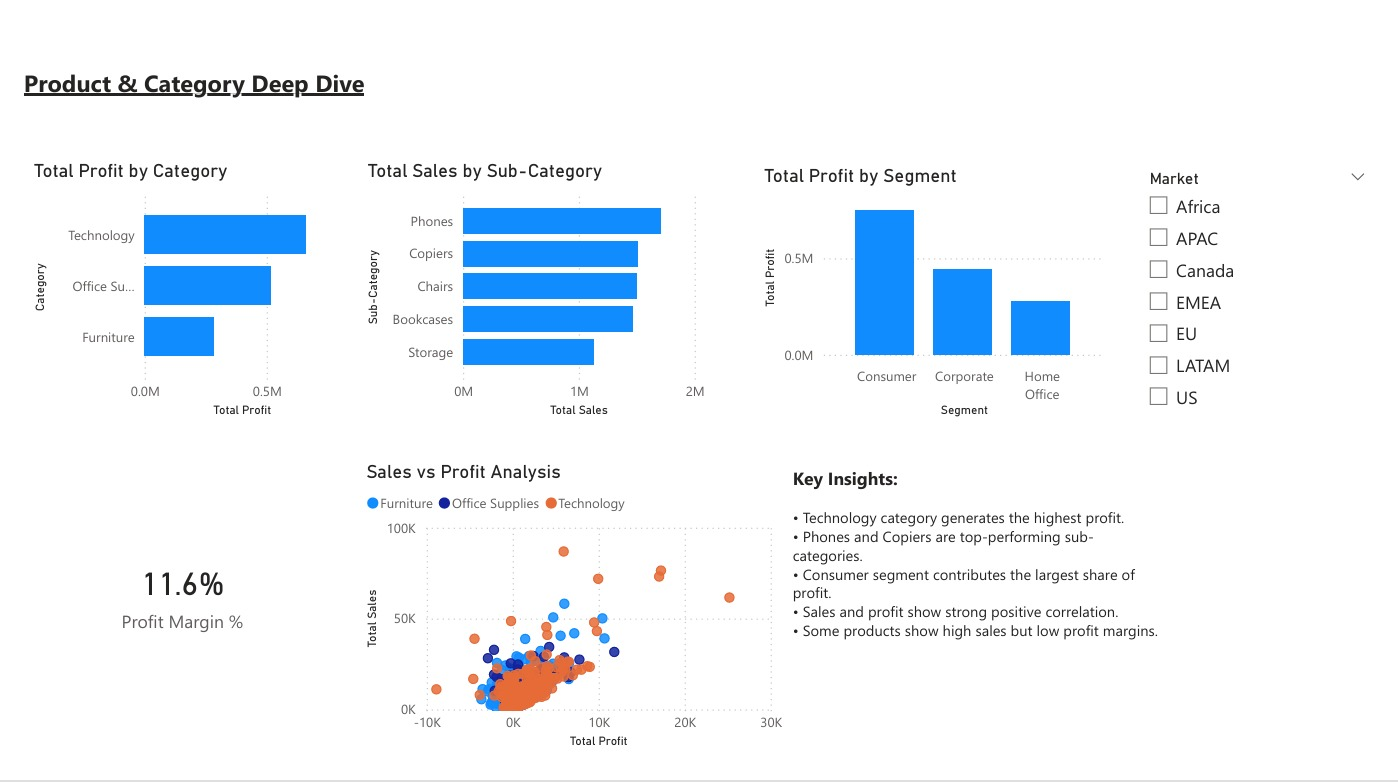

This screenshot's page, from the dashboard's own definition file:
{"tool":"powerbi","page":{"name":"Product & Market Analysis","canvas":[1280,720],"ordinal":1},"visuals":[{"type":"textbox","box":[17.8,90.6,621.6,279.9],"z":0},{"type":"clusteredBarChart","fields":{"Category":["Orders.Category"],"Y":["Orders.Total Profit"]},"box":[27.4,181.1,301.9,237.4],"z":1000},{"type":"clusteredBarChart","fields":{"Category":["Orders.Sub-Category"],"Y":["Orders.Total Sales"]},"box":[329.7,180.9,315.8,237.9],"z":2000},{"type":"clusteredColumnChart","fields":{"Y":["Orders.Total Profit"],"Category":["Orders.Segment"]},"box":[690.1,185,318.6,233.7],"z":3000},{"type":"slicer","fields":{"Values":["Orders.Market"]},"box":[1031.9,185.2,220.9,238.8],"z":4000},{"type":"card","fields":{"Values":["Dim_Orders.Profit Margin %"]},"box":[27.8,442.4,278.3,265.7],"z":5000},{"type":"scatterChart","title":"Sales vs Profit Analysis","fields":{"X":["Orders.Total Profit"],"Y":["Orders.Total Sales"],"Series":["Orders.Category"],"Category":["Orders.Product Name"]},"box":[329.3,454.2,387,266.2],"z":6000},{"type":"textbox","box":[716.3,454.2,344.4,266.2],"z":7000}]}

Visuals, with their boxes in screenshot pixels (x1, y1, x2, y2), scaled from the page's 1280x720 canvas onto the 1398x782 screenshot:
textbox: pyautogui.locateOnScreen(19, 98, 698, 402)
clusteredBarChart - Orders.Category x Orders.Total Profit: pyautogui.locateOnScreen(30, 197, 360, 455)
clusteredBarChart - Orders.Sub-Category x Orders.Total Sales: pyautogui.locateOnScreen(360, 196, 705, 455)
clusteredColumnChart - Orders.Total Profit x Orders.Segment: pyautogui.locateOnScreen(754, 201, 1102, 455)
slicer - Orders.Market: pyautogui.locateOnScreen(1127, 201, 1368, 461)
card - Dim_Orders.Profit Margin %: pyautogui.locateOnScreen(30, 480, 334, 769)
"Sales vs Profit Analysis" scatterChart: pyautogui.locateOnScreen(360, 493, 782, 781)
textbox: pyautogui.locateOnScreen(782, 493, 1158, 781)
